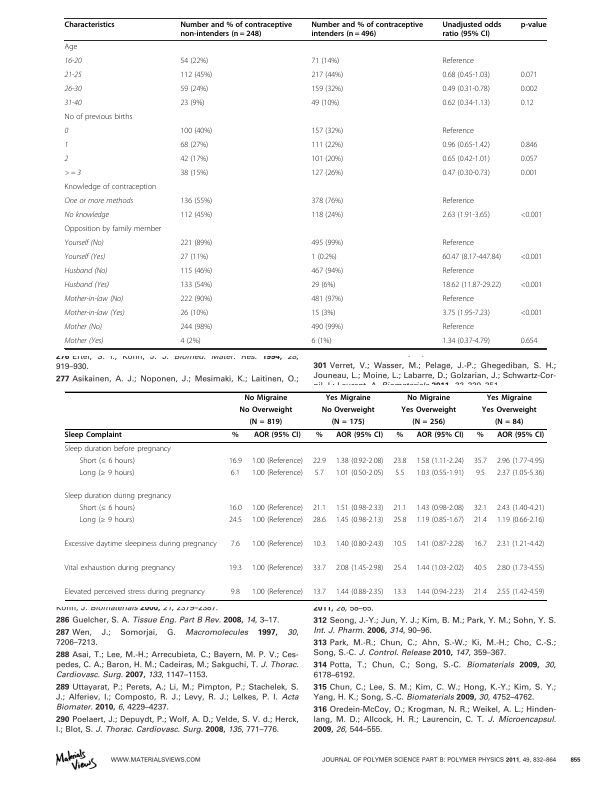borderless: (63, 17, 546, 348), (64, 390, 547, 600)
cell: (179, 21, 293, 39), (310, 21, 424, 39), (64, 540, 218, 549), (64, 588, 206, 597), (441, 21, 502, 39), (64, 444, 172, 454), (64, 492, 172, 502), (64, 564, 176, 573), (64, 225, 162, 235), (64, 183, 157, 193), (64, 113, 133, 123), (64, 197, 134, 206), (441, 253, 502, 263), (441, 281, 502, 291), (78, 456, 136, 466), (78, 504, 136, 514), (78, 468, 135, 478), (78, 516, 135, 526), (64, 309, 126, 318), (64, 295, 124, 304), (64, 431, 123, 440), (251, 456, 304, 466), (251, 468, 304, 478), (251, 504, 304, 514), (251, 516, 304, 526), (400, 406, 457, 415), (481, 406, 537, 415), (441, 71, 491, 81), (441, 85, 491, 95), (441, 99, 491, 109), (441, 141, 491, 151), (441, 155, 491, 165), (441, 169, 491, 179), (441, 211, 491, 221), (441, 309, 491, 319), (441, 337, 491, 347), (415, 456, 465, 466), (415, 468, 465, 478), (415, 504, 465, 514), (415, 516, 465, 526), (335, 456, 384, 466), (496, 456, 545, 466), (335, 468, 384, 478), (496, 468, 545, 478), (335, 504, 384, 514), (496, 504, 545, 514), (335, 516, 384, 526), (496, 516, 545, 526), (239, 406, 293, 415), (321, 406, 375, 415), (251, 540, 304, 549), (251, 564, 304, 573), (251, 588, 304, 597), (64, 21, 116, 30), (64, 211, 110, 221), (415, 540, 465, 549), (415, 564, 465, 573), (415, 588, 465, 597), (253, 431, 302, 440), (335, 431, 384, 440), (496, 431, 545, 440), (335, 540, 384, 549), (496, 540, 545, 549), (335, 564, 384, 573), (496, 564, 545, 573), (335, 588, 384, 597), (496, 588, 545, 597), (416, 431, 464, 440), (325, 394, 372, 403), (486, 394, 533, 403), (64, 281, 110, 290), (243, 394, 288, 403), (406, 394, 451, 403), (64, 267, 108, 276), (64, 253, 106, 262), (64, 239, 105, 248), (64, 337, 104, 346), (64, 323, 103, 332), (441, 57, 475, 67), (179, 71, 213, 81), (310, 71, 344, 81), (310, 85, 344, 95), (179, 127, 213, 137), (310, 127, 344, 137), (441, 127, 475, 137), (310, 141, 344, 151), (310, 155, 344, 165), (310, 169, 344, 179), (179, 197, 213, 207), (310, 197, 344, 207), (441, 197, 475, 207), (179, 211, 213, 221), (310, 211, 344, 221), (179, 239, 213, 249), (310, 239, 344, 249), (441, 239, 475, 249), (179, 267, 213, 277), (310, 267, 344, 277), (441, 267, 475, 277), (179, 281, 213, 291), (179, 295, 213, 305), (310, 295, 344, 305), (441, 295, 475, 305), (179, 323, 213, 333), (310, 323, 344, 333), (441, 323, 475, 333), (248, 418, 283, 427), (411, 418, 446, 427), (331, 418, 365, 427), (179, 57, 209, 67), (310, 57, 340, 67), (179, 85, 209, 95), (310, 99, 340, 109), (179, 141, 209, 151), (179, 155, 209, 165), (179, 169, 209, 179), (179, 253, 209, 263), (179, 309, 209, 319), (310, 253, 338, 263), (494, 418, 524, 427), (179, 99, 205, 109), (310, 281, 336, 291), (310, 309, 336, 319), (520, 21, 547, 30), (520, 211, 543, 221), (520, 253, 543, 263), (520, 281, 543, 291), (520, 309, 543, 319), (179, 337, 201, 347), (310, 337, 332, 347), (520, 71, 538, 81), (520, 85, 538, 95), (520, 141, 538, 151), (520, 155, 538, 165), (520, 169, 538, 179), (520, 337, 538, 347), (64, 57, 82, 66), (64, 71, 82, 80), (64, 85, 82, 94), (64, 99, 82, 108), (64, 169, 82, 178), (520, 99, 535, 109), (228, 456, 243, 466), (312, 456, 327, 466), (392, 456, 407, 466), (473, 456, 488, 466), (228, 504, 243, 514), (312, 504, 327, 514), (392, 504, 407, 514), (473, 504, 488, 514), (228, 516, 243, 526), (312, 516, 327, 526), (392, 516, 407, 526), (473, 516, 488, 526), (64, 43, 78, 53), (312, 540, 327, 549), (392, 540, 407, 549), (473, 540, 488, 549), (228, 564, 243, 573), (312, 564, 327, 573), (392, 564, 407, 573), (473, 564, 488, 573), (312, 588, 327, 597), (392, 588, 407, 597), (473, 588, 488, 597), (230, 468, 241, 478), (314, 468, 325, 478), (394, 468, 405, 478), (475, 468, 486, 478), (230, 540, 241, 549), (230, 588, 241, 597), (231, 431, 240, 440), (315, 431, 324, 440), (395, 431, 404, 440), (476, 431, 485, 440), (64, 127, 69, 136), (64, 141, 69, 150), (64, 155, 69, 164)
